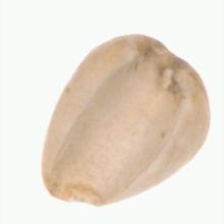L1: (41, 172, 105, 208), (148, 36, 194, 85)
L2: (41, 33, 210, 208)
